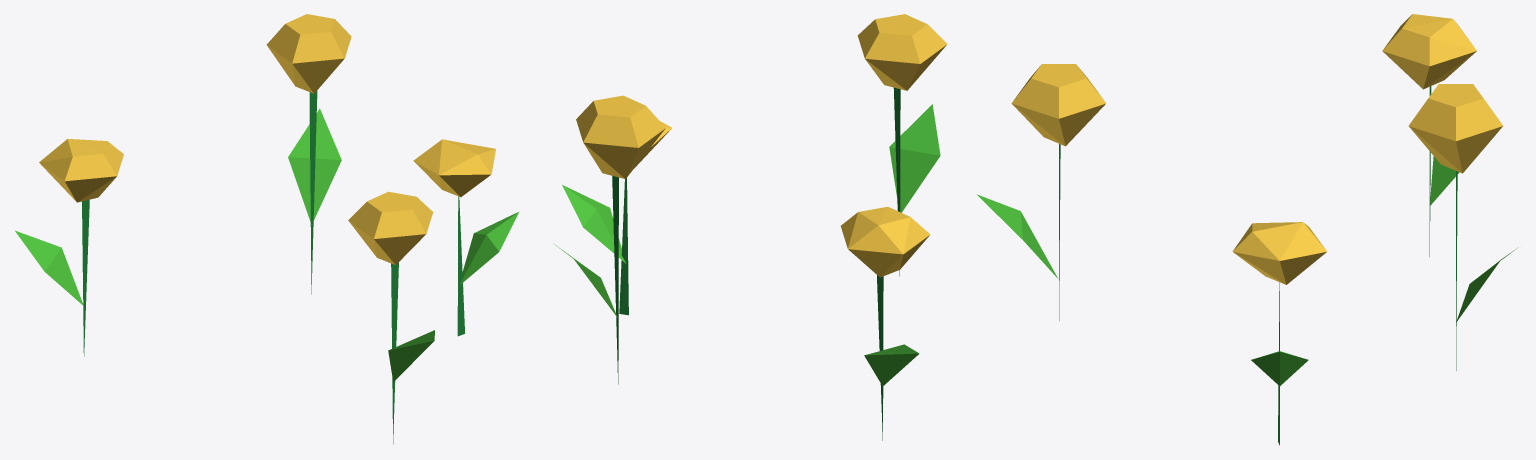
Rendered from flower_tulip_yellow.fbx.
3 renders of one model, left to right at view 1: azimuth 30°, elevation 25°; view 2: azimuth 150°, elevation 25°; view 3: azimuth 270°, elevation 25°, orthographic. The views are drawn at different scales.
Visible parts, largest first — view 1: flower_tulip_yellow; view 2: flower_tulip_yellow; view 3: flower_tulip_yellow.
Boxes of the visible parts, x1,y1,x2,y2 form: flower_tulip_yellow: (15,14,518,444); flower_tulip_yellow: (553,14,947,440); flower_tulip_yellow: (977,14,1516,445).
Size of the model in its own units: 0.8 by 0.5 by 0.8.
